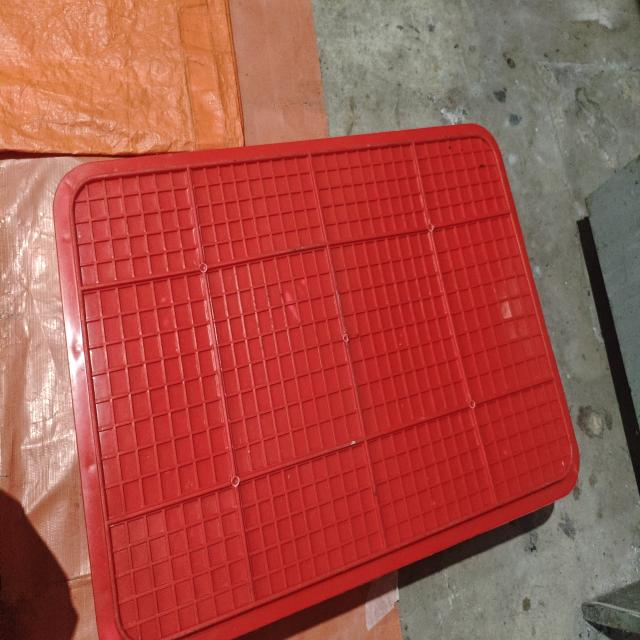red plastic box: (52, 123, 580, 640)
